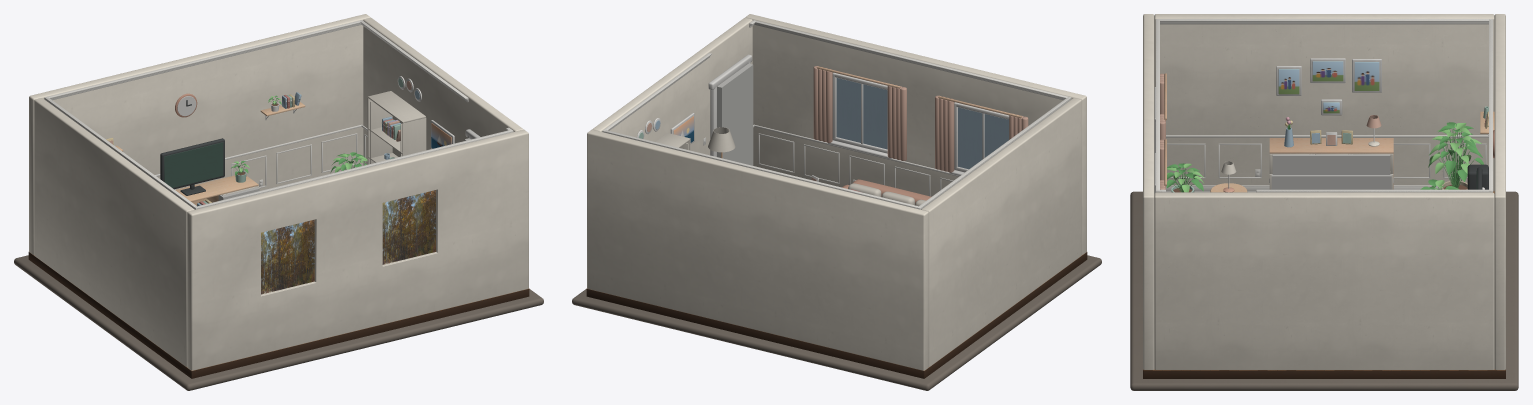
The picture shows the model from 3 angles, left to right: view 1: azimuth 30°, elevation 25°; view 2: azimuth 150°, elevation 25°; view 3: azimuth 270°, elevation 25°; orthographic projection. The views are drawn at different scales.
Visible parts, largest first — view 1: S02_ENV_Wall_S, S02_ENV_Wall_N, S02_ENV_Wall_W, S02_ENV_Wall_E, S02_ENV_Plinth, S02_ENV_Floor, S02_WALLDECO_Window02_View, S02_WALLDECO_Window_View, S02_FUR_Vitrine, S02_ENV_Trim_N, S02_FUR_TV, S02_ENV_Trim_S (+4 smaller); view 2: S02_ENV_Wall_N, S02_ENV_Wall_W, S02_ENV_Wall_S, S02_WALLDECO_Window02, S02_ENV_Plinth, S02_ENV_Wall_E, S02_WALLDECO_Window, S02_ENV_Floor, S02_ENV_Trim_S, S02_COL_INT_ExitDoor, S02_ENV_Trim_N, S02_FUR_Sofa (+4 smaller); view 3: S02_ENV_Wall_E, S02_ENV_Wall_W, S02_ENV_Plinth, S02_ENV_Wall_N, S02_ENV_Wall_S, S02_ENV_Trim_W, S02_ENV_Floor, S02_PROP_Plant04, S02_FUR_Sideboard, S02_WALLDECO_FamilyPhoto, S02_ENV_Trim_E, S02_COL_INT_SideboardDoor (+13 smaller).
Boxes of the visible parts, bbox=[...] form: S02_ENV_Wall_S: bbox=[187, 129, 528, 370]; S02_ENV_Wall_N: bbox=[29, 14, 370, 254]; S02_ENV_Wall_W: bbox=[34, 98, 194, 366]; S02_ENV_Wall_E: bbox=[363, 17, 523, 165]; S02_ENV_Plinth: bbox=[14, 255, 543, 390]; S02_ENV_Floor: bbox=[28, 252, 529, 378]; S02_WALLDECO_Window02_View: bbox=[382, 190, 435, 264]; S02_WALLDECO_Window_View: bbox=[261, 219, 314, 294]; S02_FUR_Vitrine: bbox=[367, 91, 426, 164]; S02_ENV_Trim_N: bbox=[44, 20, 363, 189]; S02_FUR_TV: bbox=[160, 138, 224, 195]; S02_ENV_Trim_S: bbox=[194, 130, 512, 209]; S02_ENV_Wall_N: bbox=[587, 129, 928, 370]; S02_ENV_Wall_W: bbox=[921, 98, 1081, 366]; S02_ENV_Wall_S: bbox=[745, 14, 1086, 254]; S02_WALLDECO_Window02: bbox=[813, 66, 906, 160]; S02_ENV_Plinth: bbox=[572, 255, 1101, 390]; S02_ENV_Wall_E: bbox=[592, 17, 752, 155]; S02_WALLDECO_Window: bbox=[935, 95, 1028, 175]; S02_ENV_Floor: bbox=[586, 252, 1087, 378]; S02_ENV_Trim_S: bbox=[753, 20, 1070, 196]; S02_COL_INT_ExitDoor: bbox=[717, 63, 753, 165]; S02_ENV_Trim_N: bbox=[603, 130, 921, 209]; S02_FUR_Sofa: bbox=[842, 179, 931, 206]; S02_ENV_Wall_E: bbox=[1154, 192, 1494, 369]; S02_ENV_Wall_W: bbox=[1154, 14, 1494, 191]; S02_ENV_Plinth: bbox=[1130, 191, 1518, 390]; S02_ENV_Wall_N: bbox=[1494, 14, 1505, 369]; S02_ENV_Wall_S: bbox=[1143, 14, 1154, 369]; S02_ENV_Trim_W: bbox=[1158, 19, 1491, 192]; S02_ENV_Floor: bbox=[1143, 191, 1505, 378]; S02_PROP_Plant04: bbox=[1428, 122, 1483, 189]; S02_FUR_Sideboard: bbox=[1269, 138, 1393, 189]; S02_WALLDECO_FamilyPhoto: bbox=[1352, 59, 1381, 92]; S02_ENV_Trim_E: bbox=[1156, 189, 1492, 192]; S02_COL_INT_SideboardDoor: bbox=[1271, 174, 1333, 189].
Bounding box in the file's own units: 6.48 × 2.96 × 5.48.
91 materials, 48 textured.
